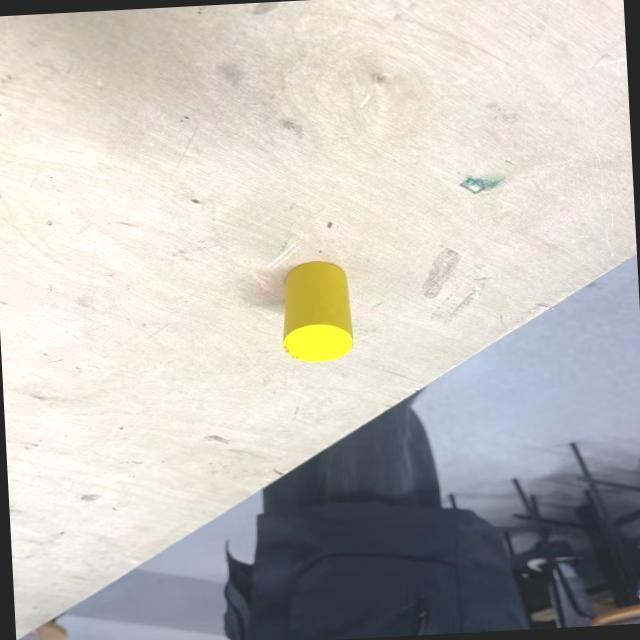yellow_cylinder: (278, 259, 355, 364)
